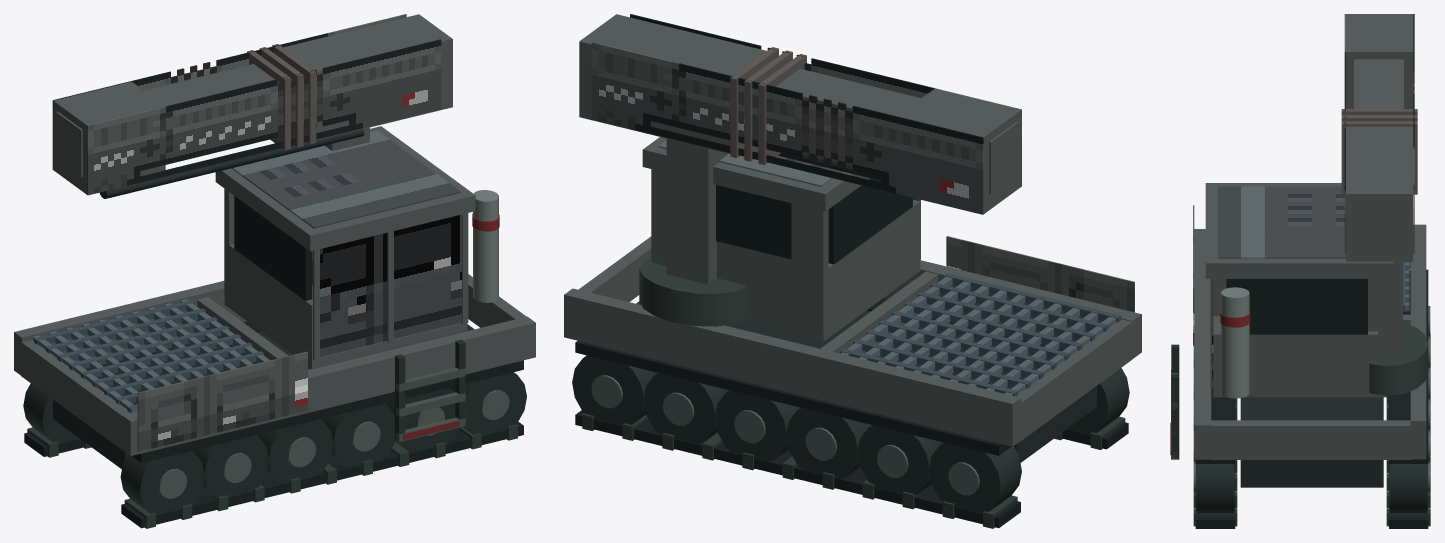
Rendered from CMU3DRMCPropVehicleCargoCraneAltHitboxWest.glb.
3 renders of one model, left to right at view 1: azimuth 30°, elevation 25°; view 2: azimuth 150°, elevation 25°; view 3: azimuth 270°, elevation 25°, orthographic. The views are drawn at different scales.
Visible parts, largest first — view 1: original boom forward markings, original cab doors and black glazing, original cab roof vent, original chassis compartments, deck front edge, deck cross support (×3), cab roof, boom outer section, cab side lower, cab side glass, boom end housing, lower track run -1 (+43 smaller); view 2: original boom rear markings, deck back edge, cab rear bulkhead, deck cross support (×3), boom outer section, boom support mast, original chassis compartments, cab side lower, upper track run 1, boom turntable, boom telescopic inner, boom end housing (+43 smaller); view 3: original cab roof vent, boom outer section, deck cross support, cab side lower (×2), central chassis, cab side glass, cab roof, boom end housing, deck front edge, deck back edge, side hydraulic cylinder, boom turntable (+15 smaller).
Part boxes in pixels (<box>): original boom forward markings: <box>87,39,441,195</box>; original cab doors and black glazing: <box>320,214,461,357</box>; original cab roof vent: <box>232,131,460,228</box>; original chassis compartments: <box>137,351,307,451</box>; deck front edge: <box>122,316,535,455</box>; deck cross support (×3): <box>21,274,526,449</box>; cab roof: <box>215,126,475,251</box>; boom outer section: <box>283,14,452,140</box>; cab side lower: <box>228,244,312,359</box>; cab side glass: <box>234,196,312,300</box>; boom end housing: <box>53,81,165,194</box>; lower track run -1: <box>121,422,523,528</box>; original boom rear markings: <box>591,42,983,214</box>; deck back edge: <box>564,288,1021,446</box>; cab rear bulkhead: <box>651,169,828,332</box>; deck cross support (×3): <box>578,236,1132,441</box>; boom outer section: <box>579,14,766,153</box>; boom support mast: <box>666,138,728,284</box>; original chassis compartments: <box>946,236,1134,312</box>; cab side lower: <box>828,199,920,328</box>; upper track run 1: <box>575,341,1011,455</box>; boom turntable: <box>639,258,747,326</box>; boom telescopic inner: <box>776,68,1018,193</box>; boom end housing: <box>897,89,1021,213</box>; original cab roof vent: <box>1217,186,1345,258</box>; boom outer section: <box>1346,126,1412,261</box>; deck cross support: <box>1211,420,1412,459</box>; cab side lower (×2): <box>1213,279,1378,388</box>; central chassis: <box>1240,397,1383,487</box>; cab side glass: <box>1226,279,1367,334</box>; cab roof: <box>1205,183,1393,278</box>; boom end housing: <box>1346,14,1413,108</box>; deck front edge: <box>1194,229,1211,459</box>; deck back edge: <box>1410,224,1426,459</box>; side hydraulic cylinder: <box>1221,287,1249,398</box>; boom turntable: <box>1369,322,1428,395</box>.
Bounding box in the file's own units: 1.95 × 1.58 × 1.09.
21 materials, 4 textured.
